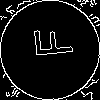F: (25, 25, 73, 60)
